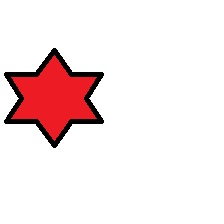star: (4, 47, 103, 149)
